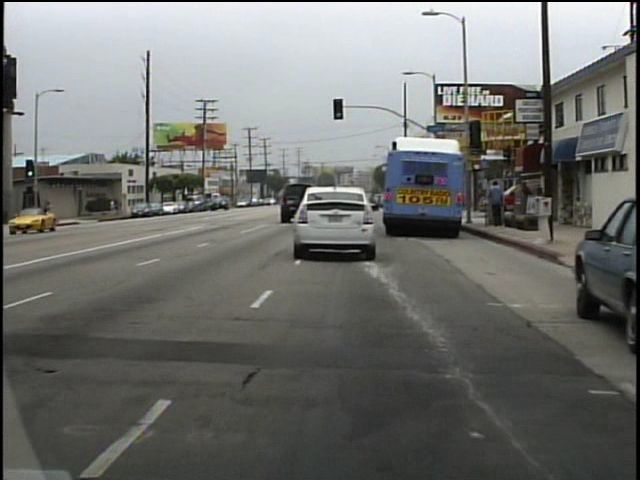person: (484, 179, 505, 231), (109, 195, 119, 217)
